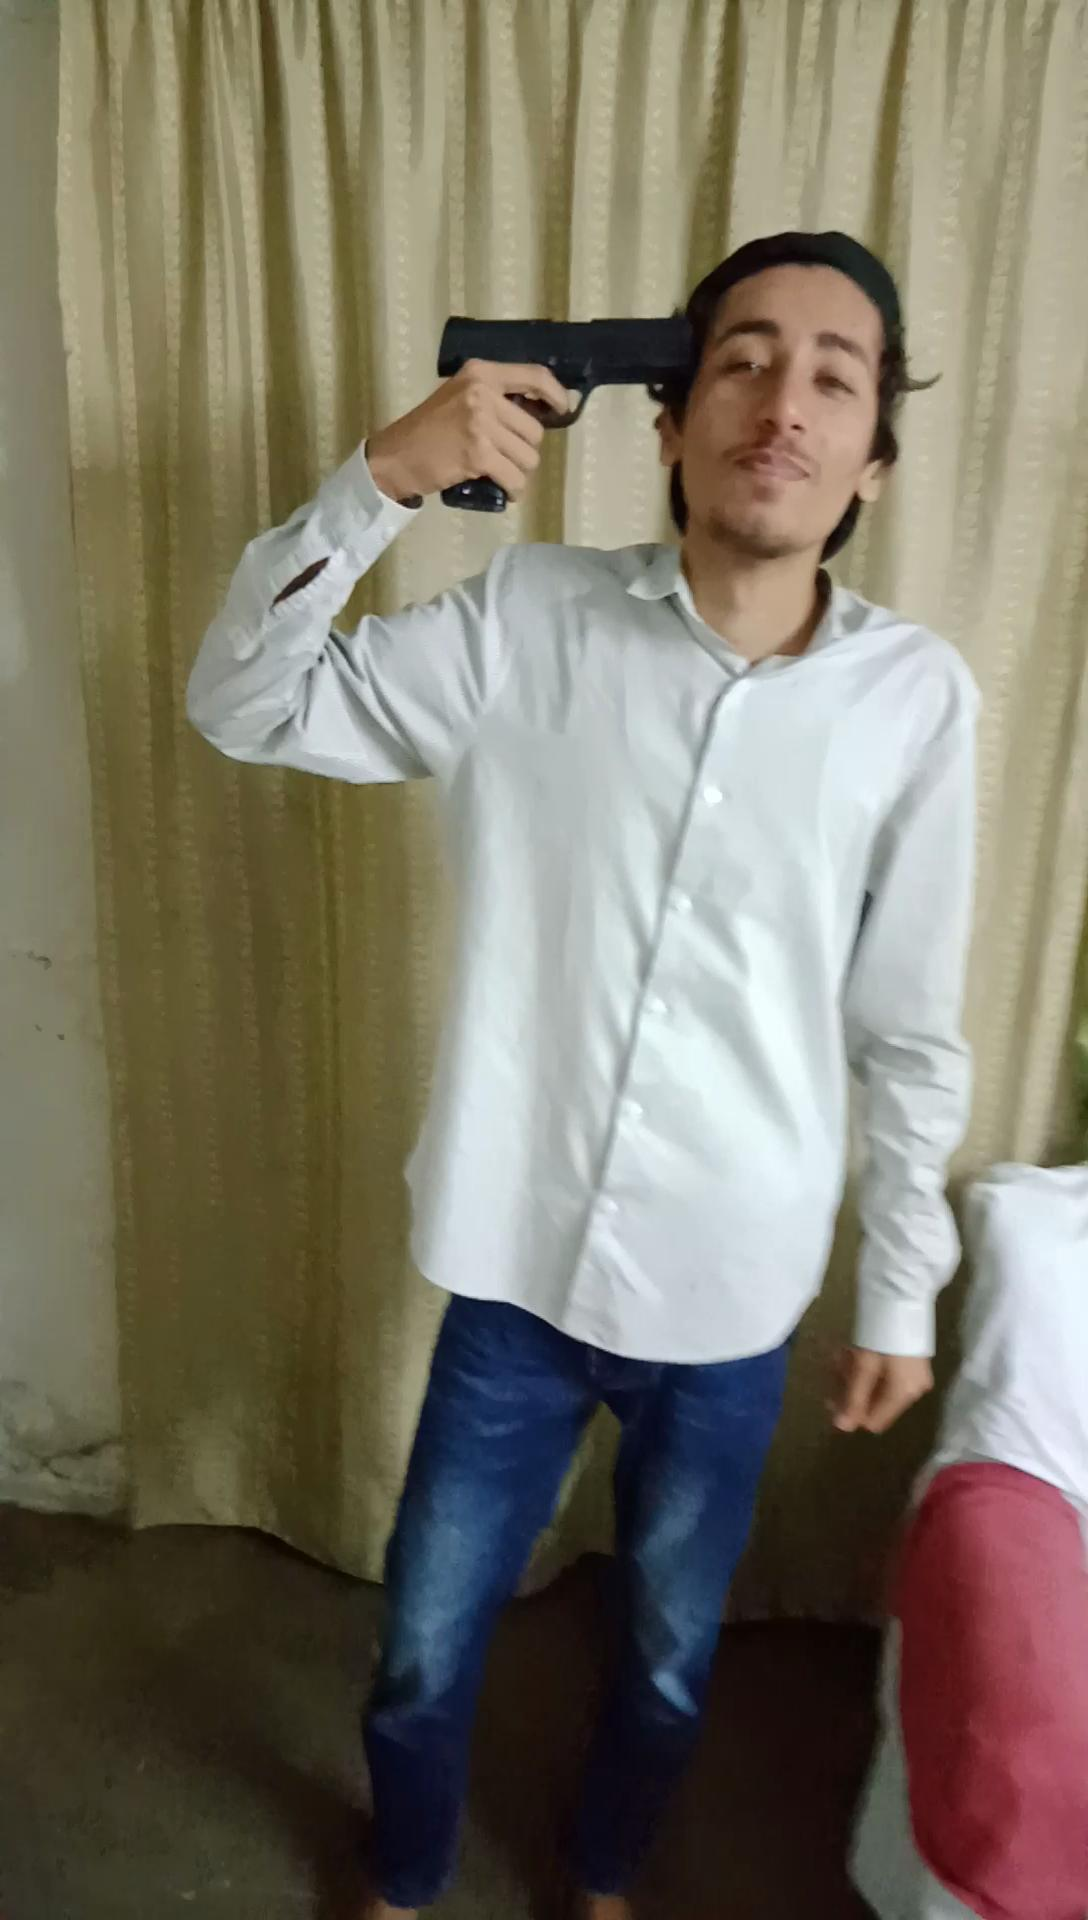criminal: (179, 222, 986, 1920)
weapon: (425, 301, 696, 524)
